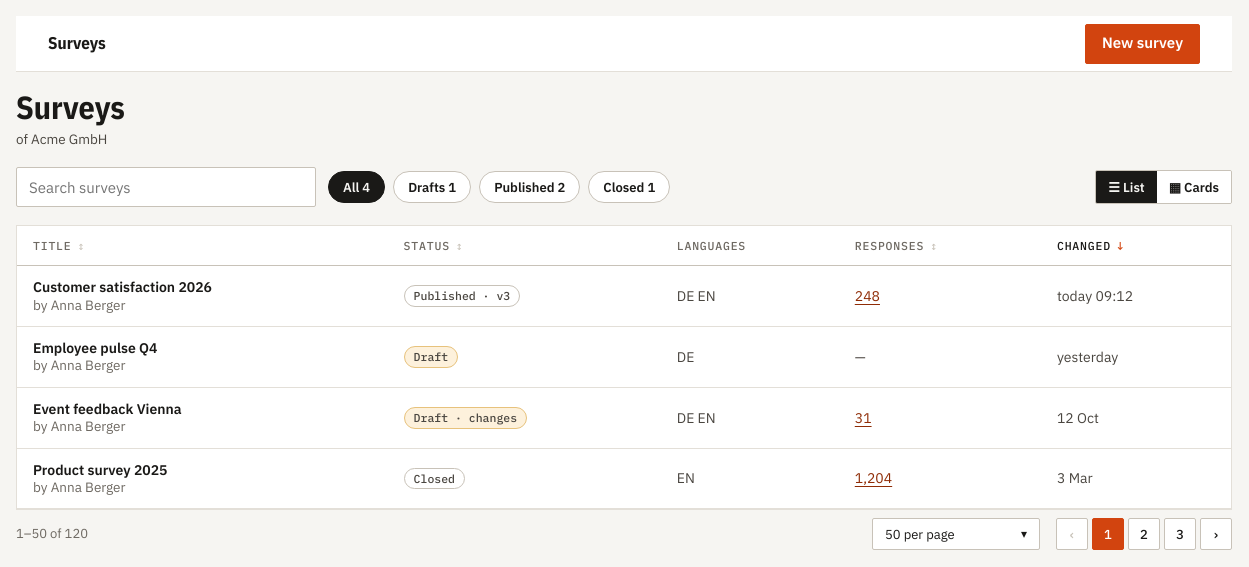
SurveyListPage (W6) › pages with numbers, 50 to a page, and keeps the page in the address (W13 A)
Expected: the text "1–50 of 120" is shown, [16, 526, 88, 543]
What coordinates should you click on to do the following:
click the button named "Page 3"
I would click on:
 (1180, 534)
Its box is [1164, 518, 1196, 550].
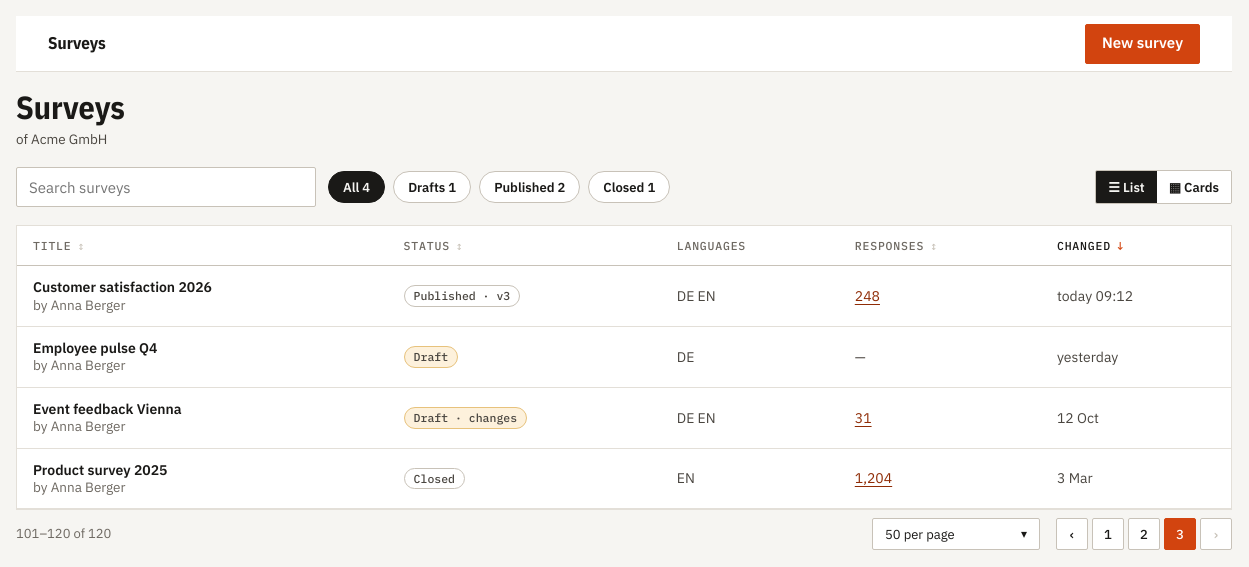
Expected: the text "101–120 of 120" is shown, [16, 526, 111, 543]
